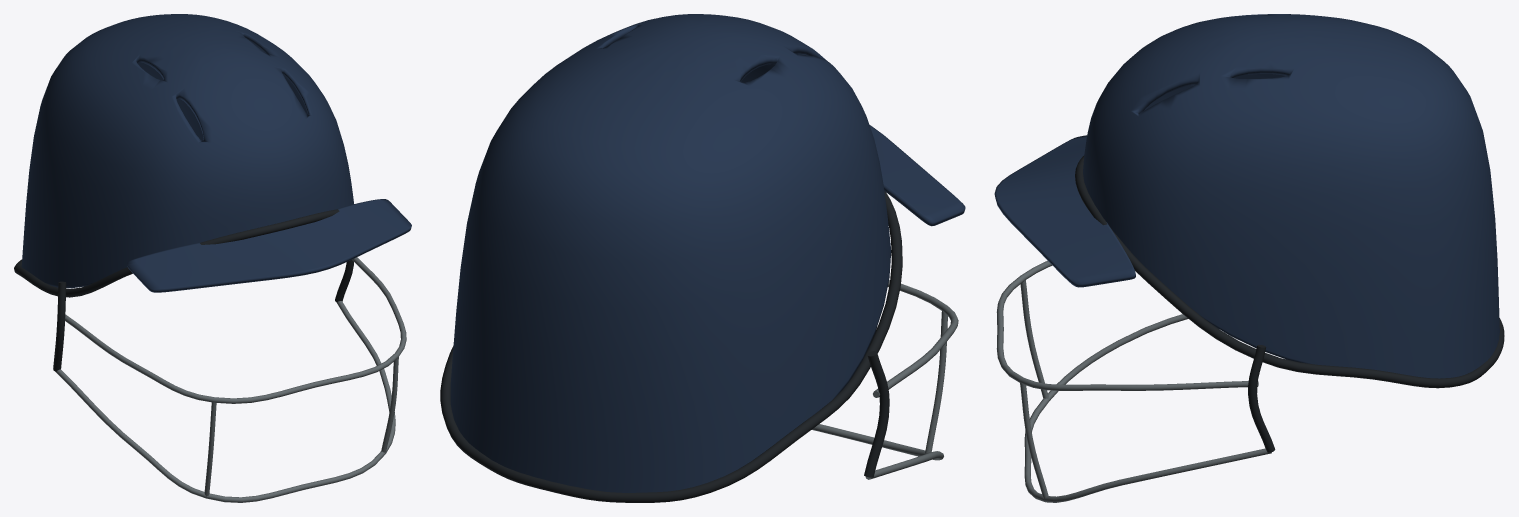
Rendered from cricket_helmet_reference.glb.
3 views of the same model, side by side, from view 1: azimuth 30°, elevation 25°; view 2: azimuth 150°, elevation 25°; view 3: azimuth 270°, elevation 25° (orthographic). The views are drawn at different scales.
Parts seen in each view (by area): view 1: Cricket helmet shell, Upper faceguard, Finished inner rim; view 2: Cricket helmet shell, Finished inner rim, Upper faceguard; view 3: Cricket helmet shell, Upper faceguard, Finished inner rim.
Part boxes in pixels (x1,y1,x2,y2): Cricket helmet shell: [21, 14, 411, 292]; Upper faceguard: [55, 257, 406, 502]; Finished inner rim: [14, 209, 353, 371]; Cricket helmet shell: [450, 14, 965, 492]; Finished inner rim: [440, 191, 902, 502]; Upper faceguard: [812, 280, 958, 479]; Cricket helmet shell: [994, 14, 1499, 378]; Upper faceguard: [996, 260, 1271, 502]; Finished inner rim: [1075, 155, 1504, 452].
Bounding box in the file's own units: 0.215 × 0.2589 × 0.2773.
